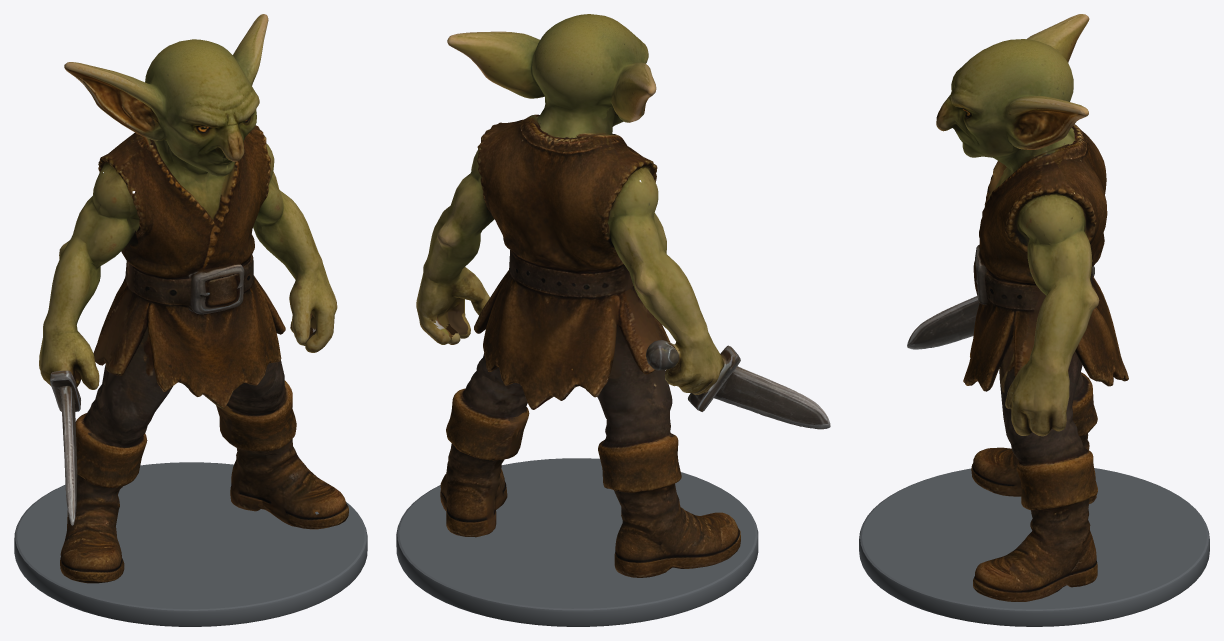
File: goblin-hybrid-c1712d006199.glb
3 views of the same model, side by side, from view 1: azimuth 30°, elevation 25°; view 2: azimuth 150°, elevation 25°; view 3: azimuth 270°, elevation 25° (orthographic). The views are drawn at different scales.
Parts seen in each view (by area): view 1: comparison-goblin-hybrid_body, comparison-goblin-hybrid_round_base; view 2: comparison-goblin-hybrid_body, comparison-goblin-hybrid_round_base; view 3: comparison-goblin-hybrid_body, comparison-goblin-hybrid_round_base.
Boxes of the visible parts, x1,y1,x2,y2 form: comparison-goblin-hybrid_body: [39, 14, 348, 583]; comparison-goblin-hybrid_round_base: [14, 462, 367, 626]; comparison-goblin-hybrid_body: [416, 14, 830, 577]; comparison-goblin-hybrid_round_base: [396, 458, 758, 626]; comparison-goblin-hybrid_body: [907, 14, 1128, 601]; comparison-goblin-hybrid_round_base: [859, 468, 1209, 626].
Size of the model in its own units: 1.1 by 1.6 by 1.
Materials: 2 (1 with a texture image).
